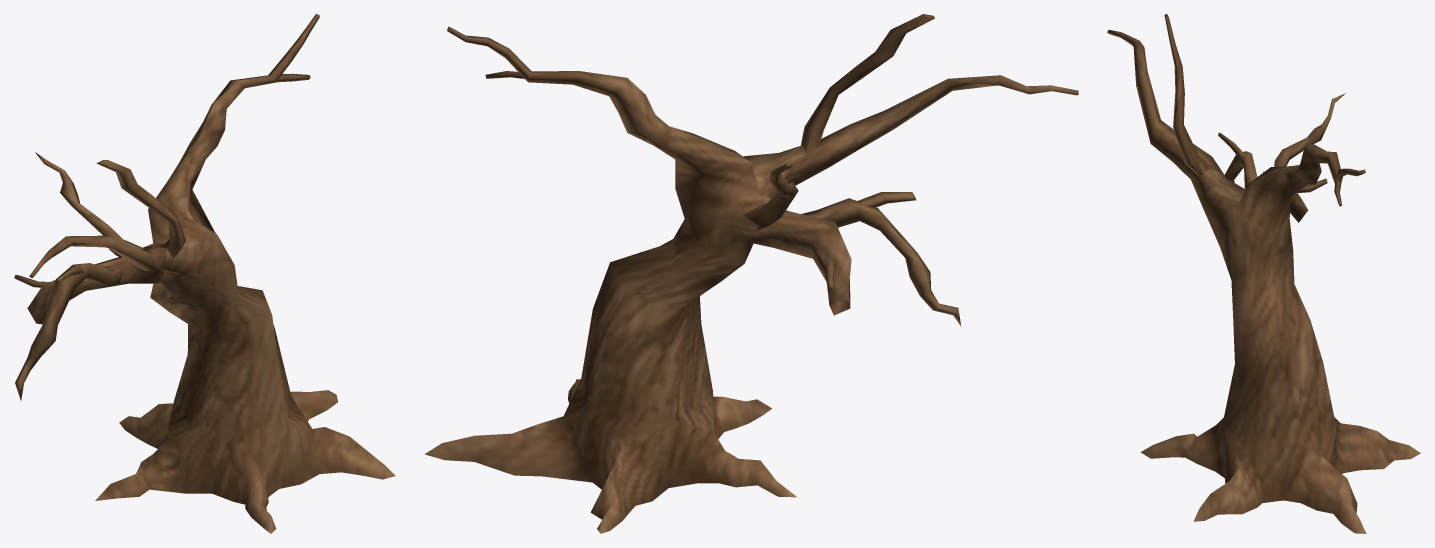
Rendered from new_tree_002.FBX.
3 views of the same model, side by side, from view 1: azimuth 30°, elevation 25°; view 2: azimuth 150°, elevation 25°; view 3: azimuth 270°, elevation 25° (orthographic). The views are drawn at different scales.
Parts seen in each view (by area): view 1: new_tree_002; view 2: new_tree_002; view 3: new_tree_002.
Boxes of the visible parts, <box> form: new_tree_002: <box>14,14,395,533</box>; new_tree_002: <box>424,14,1078,533</box>; new_tree_002: <box>1107,14,1420,533</box>.
Size of the model in its own units: 125 by 109 by 82.56.
1 material, 1 textured.
